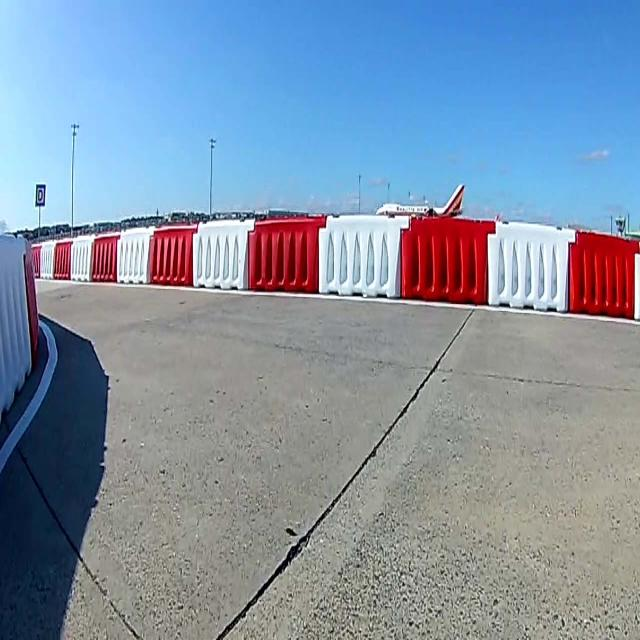durak: (35, 185, 45, 207)
